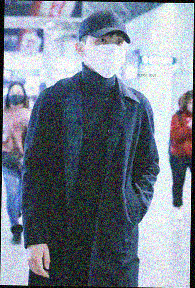with_mask: (86, 34, 127, 79), (7, 86, 26, 105)
